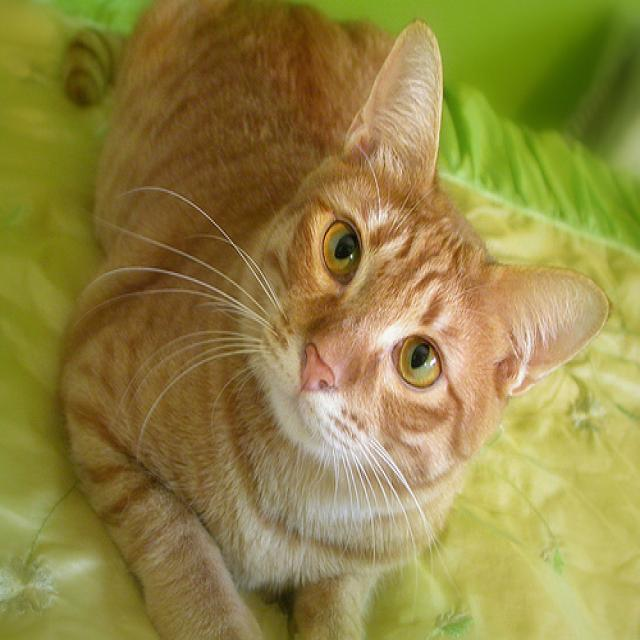cat: (54, 1, 610, 639)
